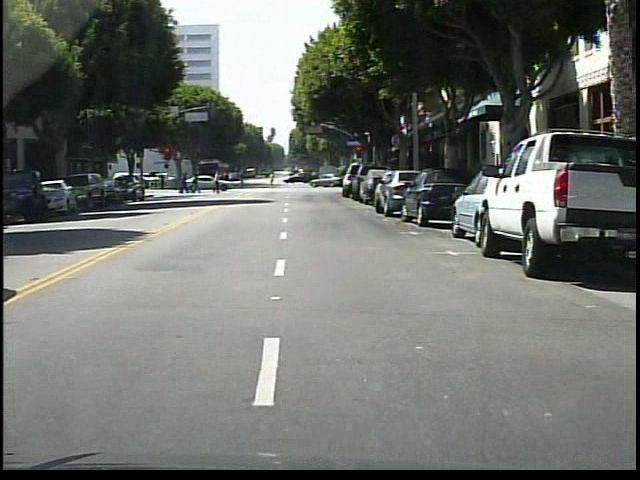person: (211, 167, 231, 196)
